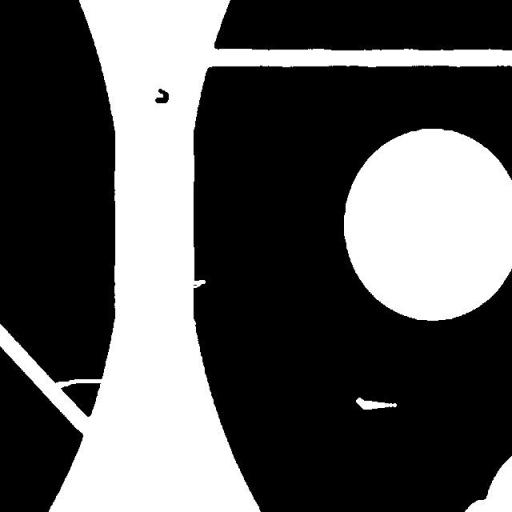copper: (147, 81, 176, 110)
mousebite: (185, 272, 213, 295)
open: (46, 371, 114, 395)
pin-hole: (348, 390, 404, 416)
